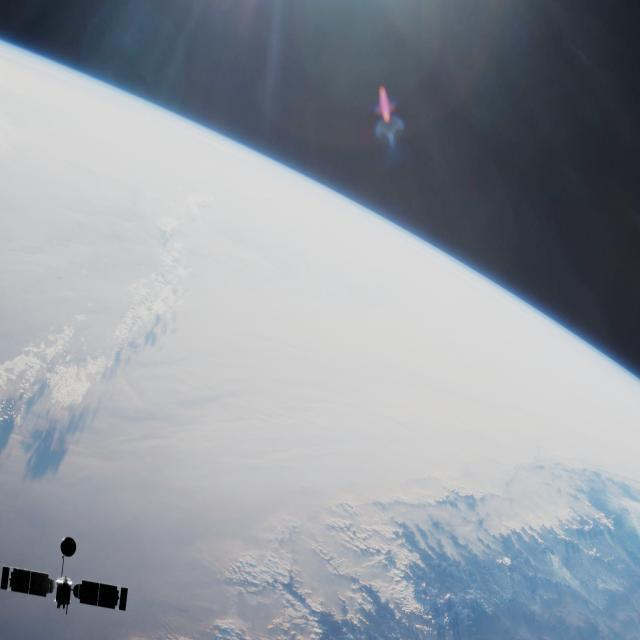satellite: (0, 524, 160, 640)
